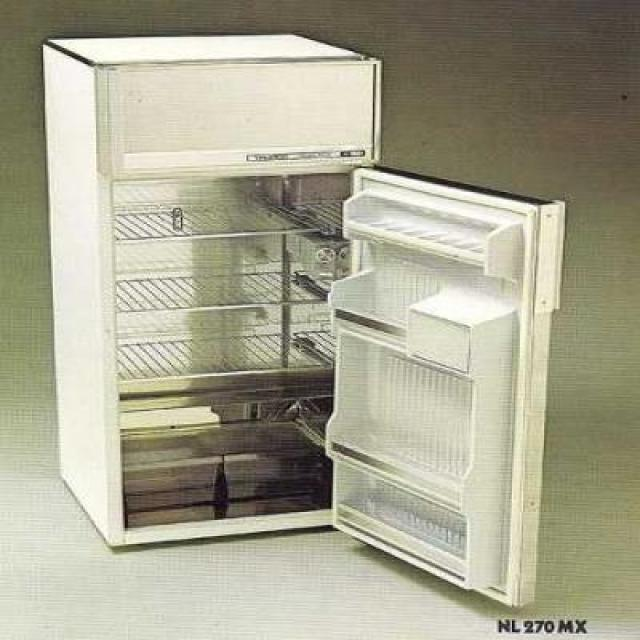refrigerator: (96, 61, 445, 558)
